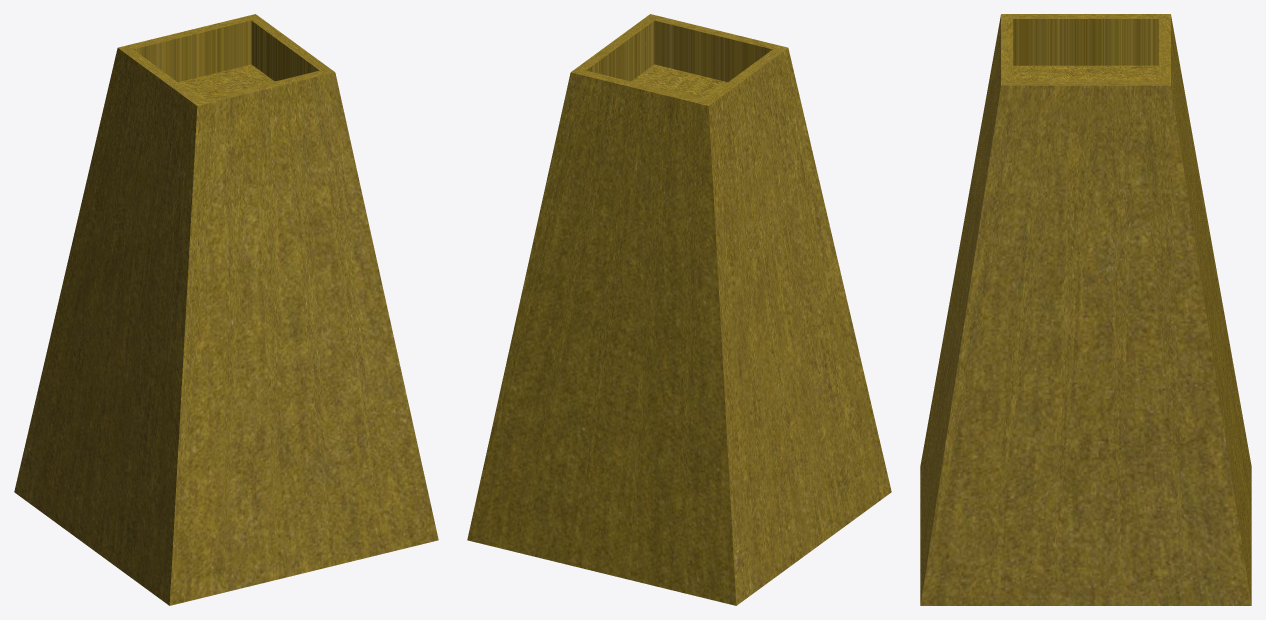
File: fuego.fbx
3 views of the same model, side by side, from view 1: azimuth 30°, elevation 25°; view 2: azimuth 150°, elevation 25°; view 3: azimuth 270°, elevation 25° (orthographic). The views are drawn at different scales.
Visible parts, largest first — view 1: pCube1; view 2: pCube1; view 3: pCube1.
Boxes of the visible parts, x1=… form: pCube1: x1=14, y1=14, x2=438, y2=605; pCube1: x1=467, y1=14, x2=891, y2=605; pCube1: x1=920, y1=14, x2=1251, y2=605.
Size of the model in its own units: 16.58 by 26.86 by 16.58.
Materials: 1 (1 with a texture image).
